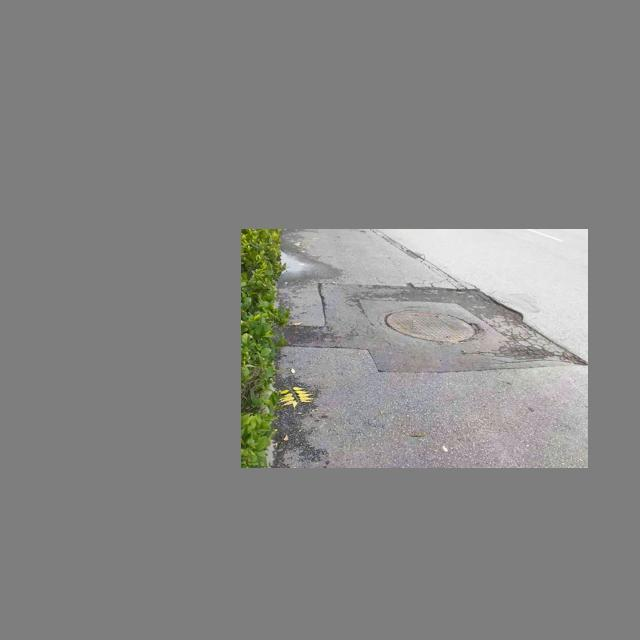circle: (326, 292, 545, 369)
